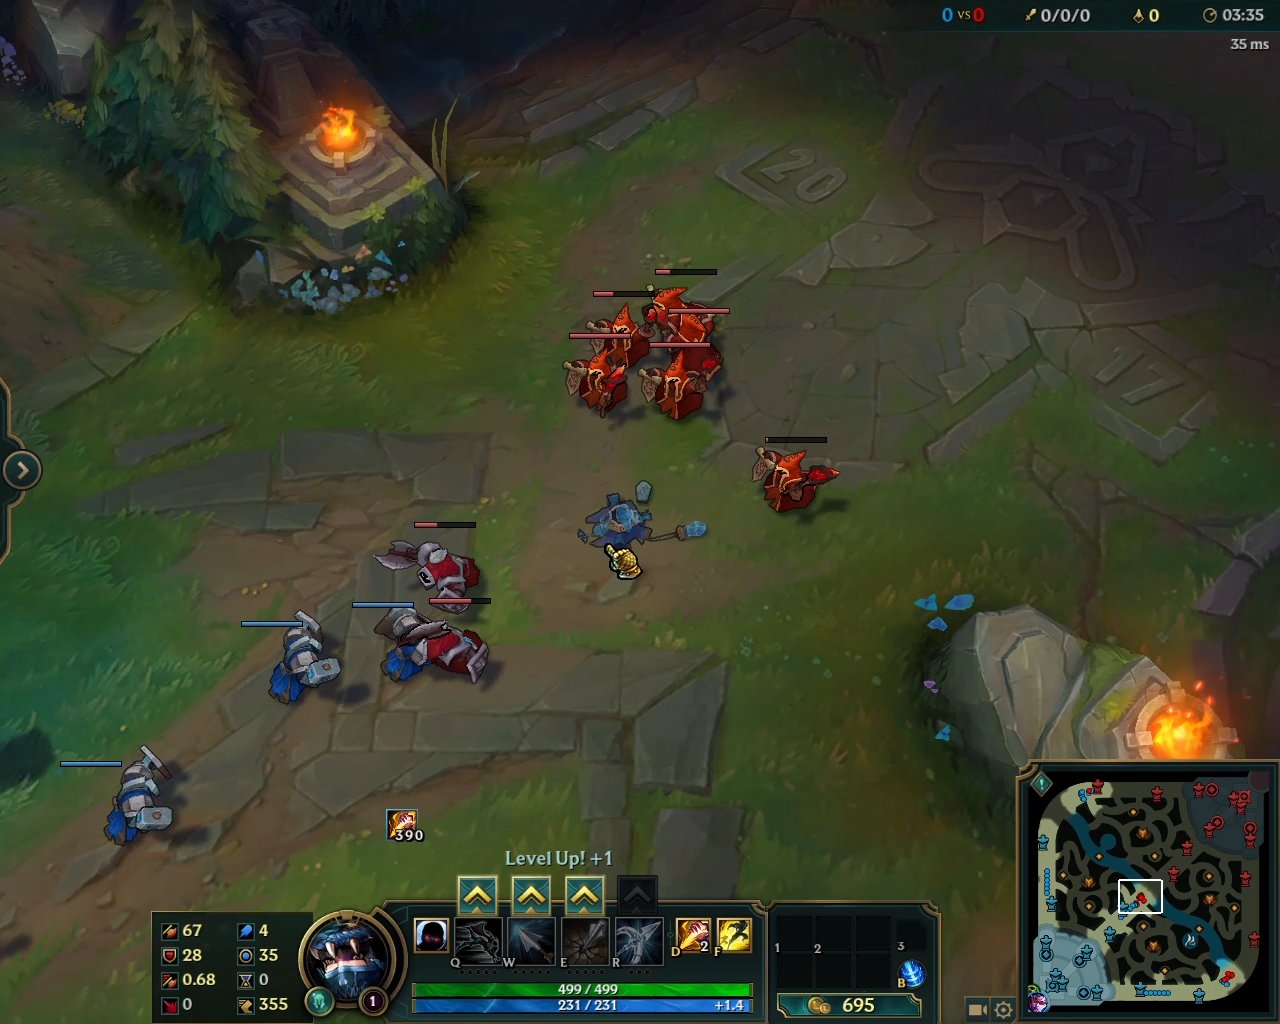EnemyMinion: (372, 518, 480, 618), (395, 594, 493, 680), (751, 432, 839, 519), (632, 343, 716, 424), (555, 334, 631, 423), (638, 267, 718, 335), (583, 290, 654, 365), (653, 309, 734, 372)
